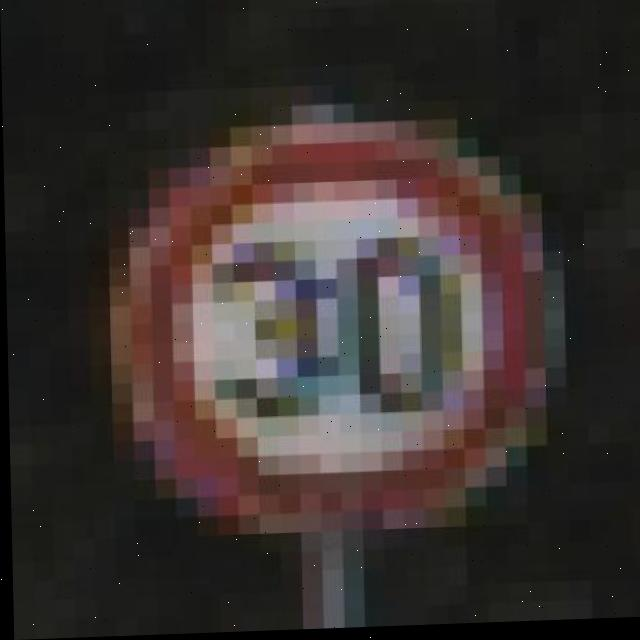Speed limit 30: (108, 105, 554, 546)
